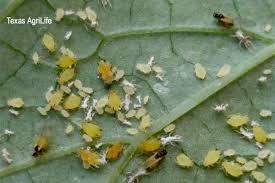Insects: (26, 125, 57, 164), (69, 140, 106, 171), (228, 26, 258, 57), (135, 134, 164, 160), (94, 56, 116, 86), (199, 145, 225, 169), (39, 29, 61, 56), (46, 84, 67, 112), (82, 117, 107, 139), (172, 151, 198, 172), (212, 5, 234, 29), (104, 139, 126, 163), (221, 157, 244, 179), (130, 55, 152, 77), (226, 112, 251, 131), (250, 123, 270, 145), (57, 66, 76, 87), (210, 97, 230, 116), (192, 61, 210, 81), (52, 6, 65, 23), (31, 50, 42, 65)
